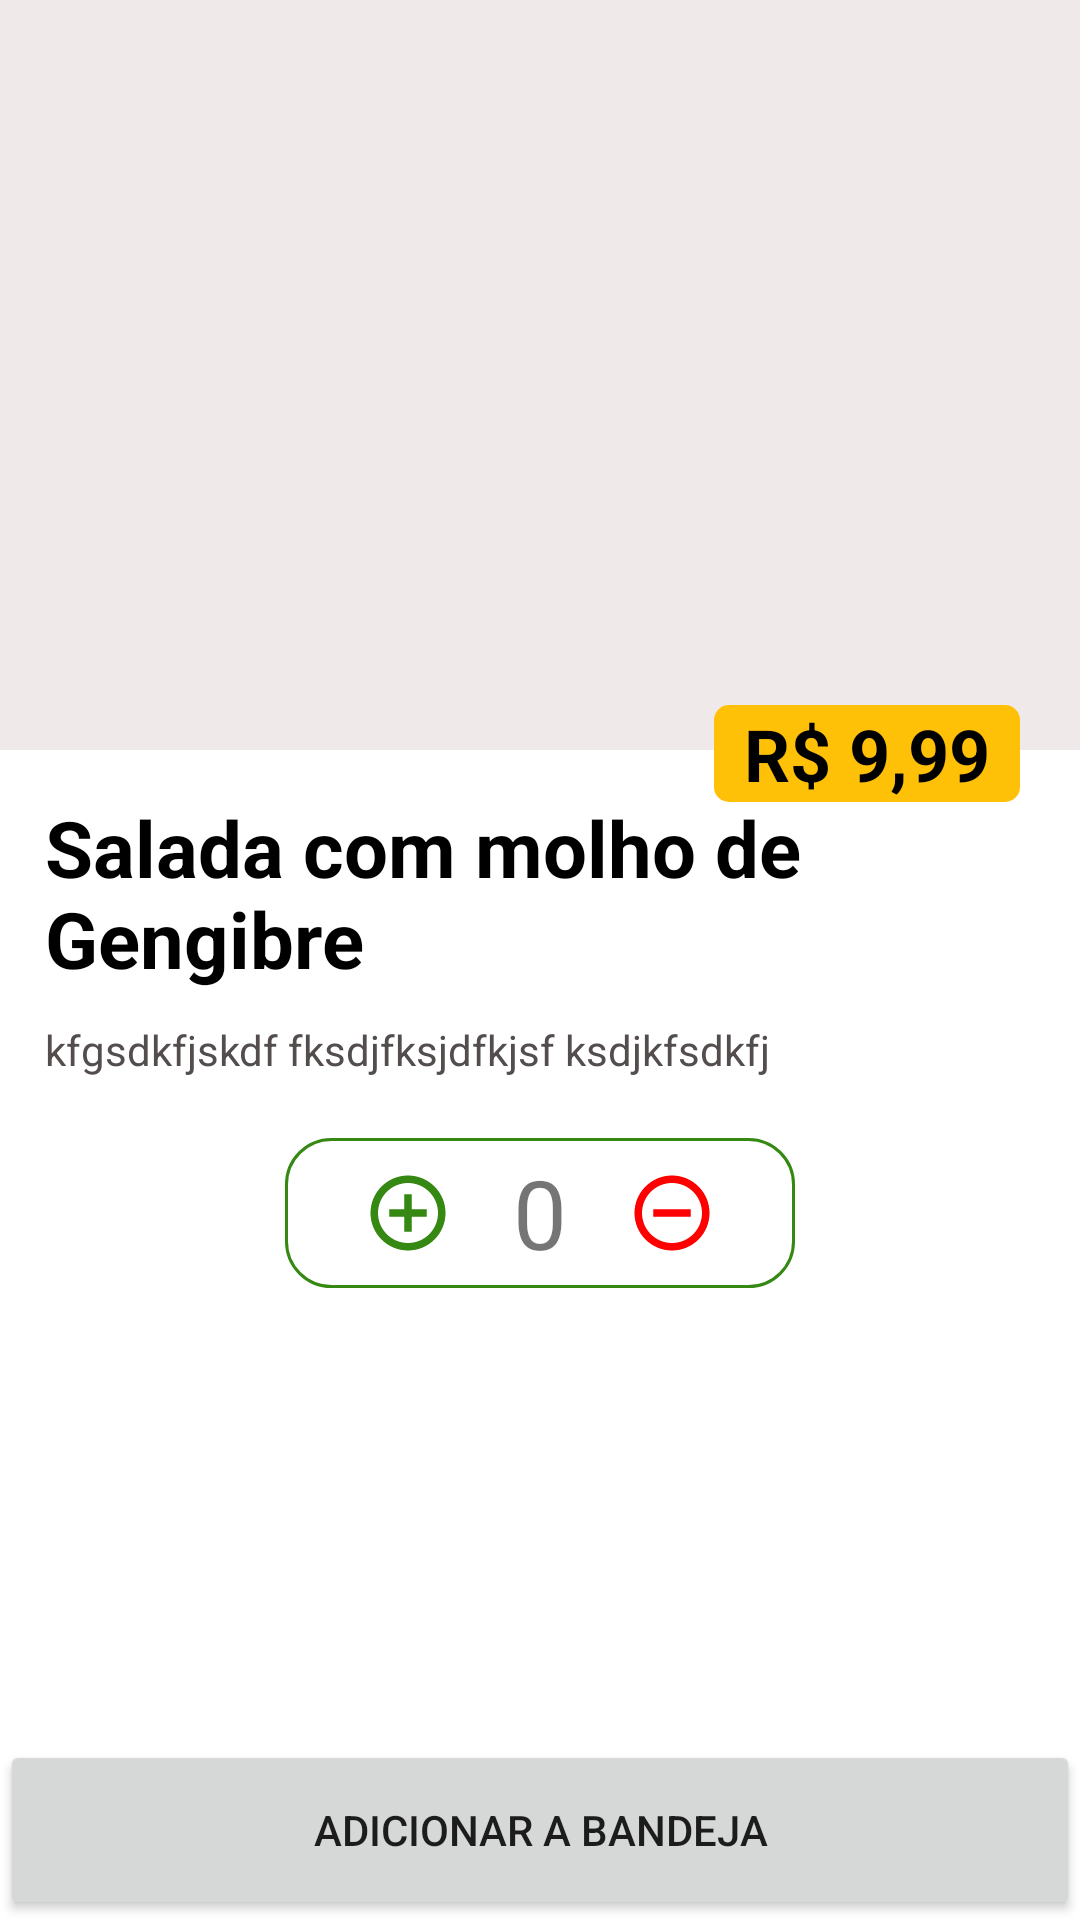

Screen size 1080*1920. Icon name, then its box in pixels as (x1, y1, x2, y2):
add circle: (370, 1175, 446, 1251)
remove circle: (634, 1175, 710, 1251)
